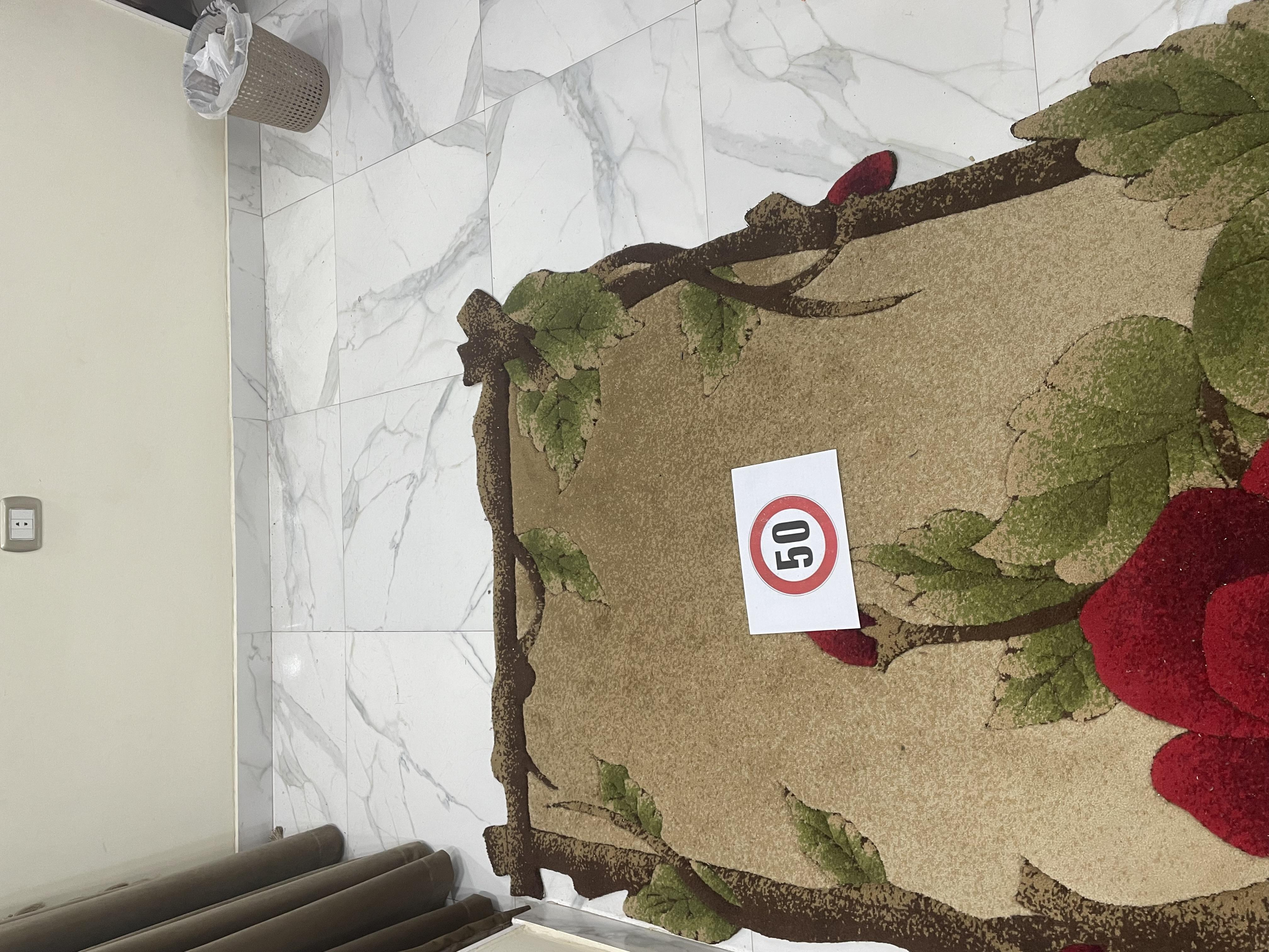50-Speed: (473, 558, 612, 631)
